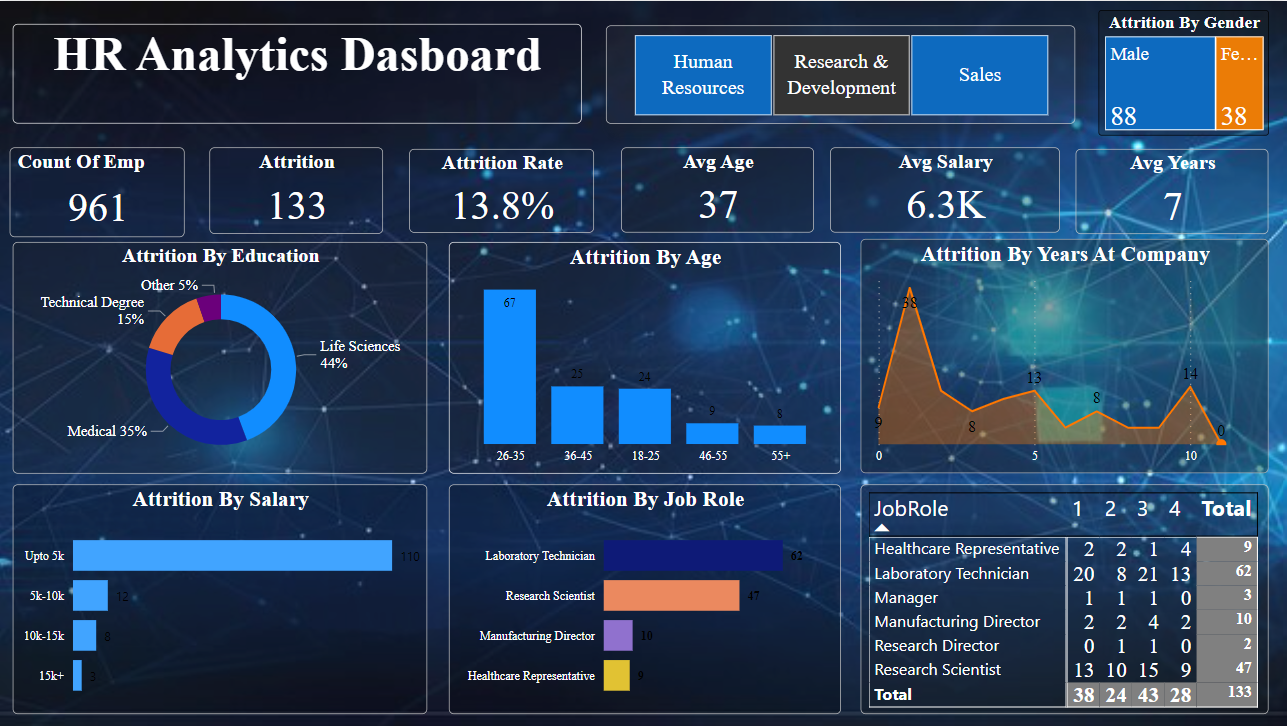

Layout of this report page (visuals, bound fields, positions):
{"tool":"powerbi","page":{"name":"Page 1","canvas":[1280,720],"ordinal":0},"visuals":[{"type":"card","title":"Attrition Rate","fields":{"Values":["HR_Analytics (2).Attributerate"]},"box":[407.1,146.9,183.6,83],"z":0},{"type":"card","title":"Attrition","fields":{"Values":["Sum(HR_Analytics (2).Attribution_Count)"]},"box":[209.1,145.3,172.4,86.2],"z":1000},{"type":"card","title":"Avg Age","fields":{"Values":["Avg(HR_Analytics (2).Age)"]},"box":[617.8,145.3,191.6,84.6],"z":2000},{"type":"card","title":"Count Of Emp","fields":{"Values":["CountNonNull(HR_Analytics (2).EmpID)"]},"box":[11.2,145.3,174,89.4],"z":3000},{"type":"card","title":"Avg Salary","fields":{"Values":["Avg(HR_Analytics (2).MonthlyIncome)"]},"box":[825.4,145.3,228.3,84.6],"z":4000},{"type":"card","title":"Avg Years","fields":{"Values":["Avg(HR_Analytics (2).YearsAtCompany)"]},"box":[1069.6,146.9,191.6,84.6],"z":5000},{"type":"donutChart","title":"Attrition By Education","fields":{"Category":["HR_Analytics (2).EducationField"],"Y":["Sum(HR_Analytics (2).Attribution_Count)"]},"box":[14.4,239.5,411.9,229.9],"z":6000},{"type":"columnChart","title":"Attrition By Age","fields":{"Category":["HR_Analytics (2).AgeGroup"],"Y":["Sum(HR_Analytics (2).Attribution_Count)"]},"box":[447,239.5,389.5,229.9],"z":7000},{"type":"pivotTable","fields":{"Rows":["HR_Analytics (2).JobRole"],"Columns":["HR_Analytics (2).JobSatisfaction"],"Values":["Sum(HR_Analytics (2).Attribution_Count)"]},"box":[855.7,480.5,405.5,228.3],"z":8000},{"type":"barChart","title":"Attrition By Salary","fields":{"Category":["HR_Analytics (2).SalarySlab"],"Y":["Sum(HR_Analytics (2).Attribution_Count)"]},"box":[14.4,480.5,411.9,228.3],"z":9000},{"type":"barChart","title":"Attrition By Job Role","fields":{"Category":["HR_Analytics (2).JobRole"],"Y":["Sum(HR_Analytics (2).Attribution_Count)"]},"box":[447,480.5,389.5,228.3],"z":10000},{"type":"areaChart","title":"Attrition By Years At Company ","fields":{"Category":["HR_Analytics (2).YearsAtCompany"],"Y":["Sum(HR_Analytics (2).Attribution_Count)"]},"box":[855.7,236.3,405.5,233.1],"z":11000},{"type":"treemap","title":"Attrition By Gender","fields":{"Group":["HR_Analytics (2).Gender"],"Values":["Sum(HR_Analytics (2).Attribution_Count)"]},"box":[1092,9.6,169.2,124.5],"z":12000},{"type":"slicer","fields":{"Values":["HR_Analytics (2).Department"]},"box":[603.5,23.9,466.2,97.4],"z":13000},{"type":"textbox","title":"HR Analytics Dasboard ","box":[14.4,22.4,565.1,99],"z":14000}]}

Visuals, with their boxes in screenshot pixels (x1, y1, x2, y2), scaled from the page's 1280x720 canvas onto the 1287x726 screenshot:
"Attrition Rate" card: (left=409, top=148, right=594, bottom=232)
"Attrition" card: (left=210, top=147, right=384, bottom=233)
"Avg Age" card: (left=621, top=147, right=814, bottom=232)
"Count Of Emp" card: (left=11, top=147, right=186, bottom=237)
"Avg Salary" card: (left=830, top=147, right=1059, bottom=232)
"Avg Years" card: (left=1075, top=148, right=1268, bottom=233)
"Attrition By Education" donutChart: (left=14, top=241, right=429, bottom=473)
"Attrition By Age" columnChart: (left=449, top=241, right=841, bottom=473)
pivotTable - HR_Analytics (2).JobRole x HR_Analytics (2).JobSatisfaction: (left=860, top=485, right=1268, bottom=715)
"Attrition By Salary" barChart: (left=14, top=485, right=429, bottom=715)
"Attrition By Job Role" barChart: (left=449, top=485, right=841, bottom=715)
"Attrition By Years At Company " areaChart: (left=860, top=238, right=1268, bottom=473)
"Attrition By Gender" treemap: (left=1098, top=10, right=1268, bottom=135)
slicer - HR_Analytics (2).Department: (left=607, top=24, right=1076, bottom=122)
"HR Analytics Dasboard " textbox: (left=14, top=23, right=583, bottom=122)
